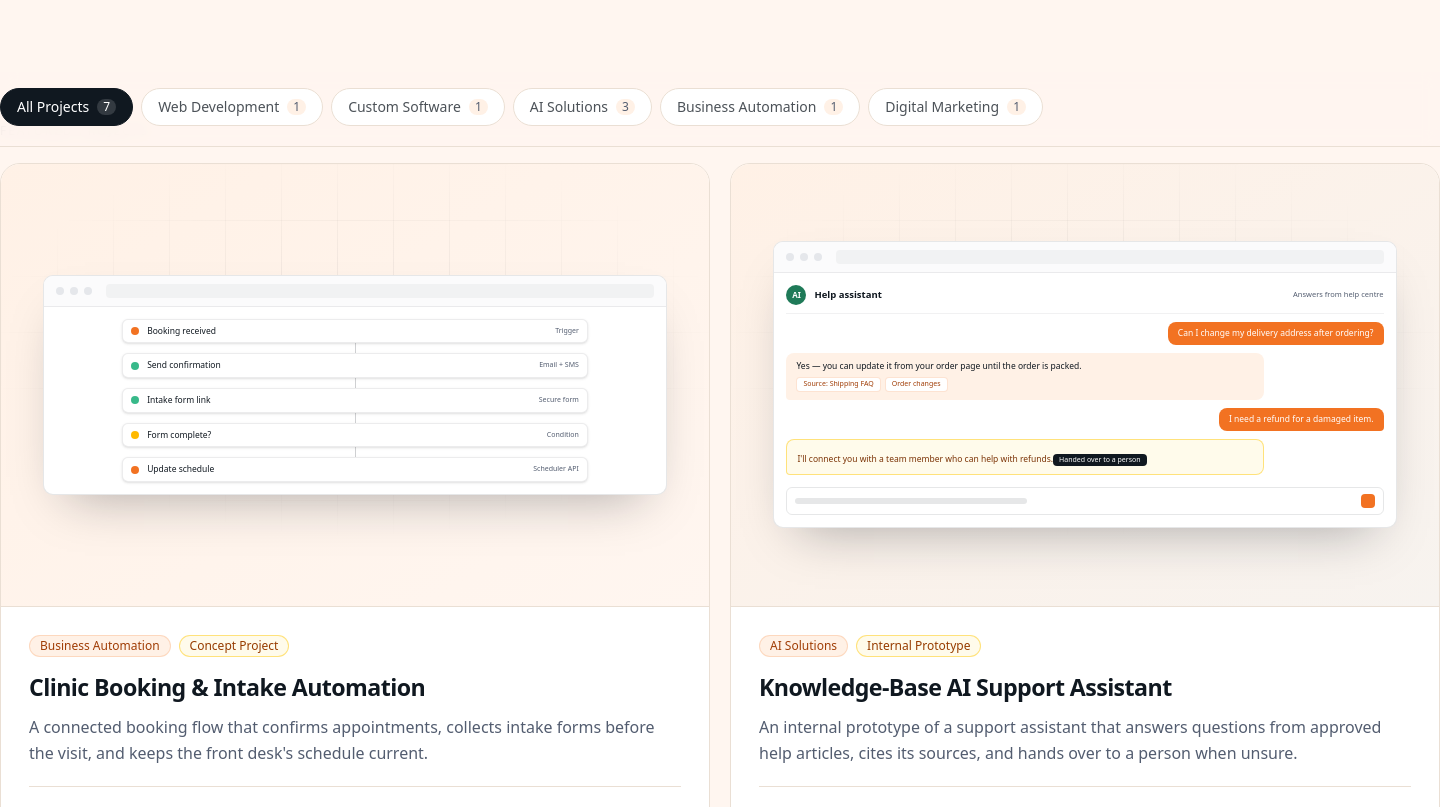
Test: ProjectFilters › filters projects by category without reload and updates the URL
Click the button "Digital Marketing 1" at (956, 107), box [868,88,1043,126]
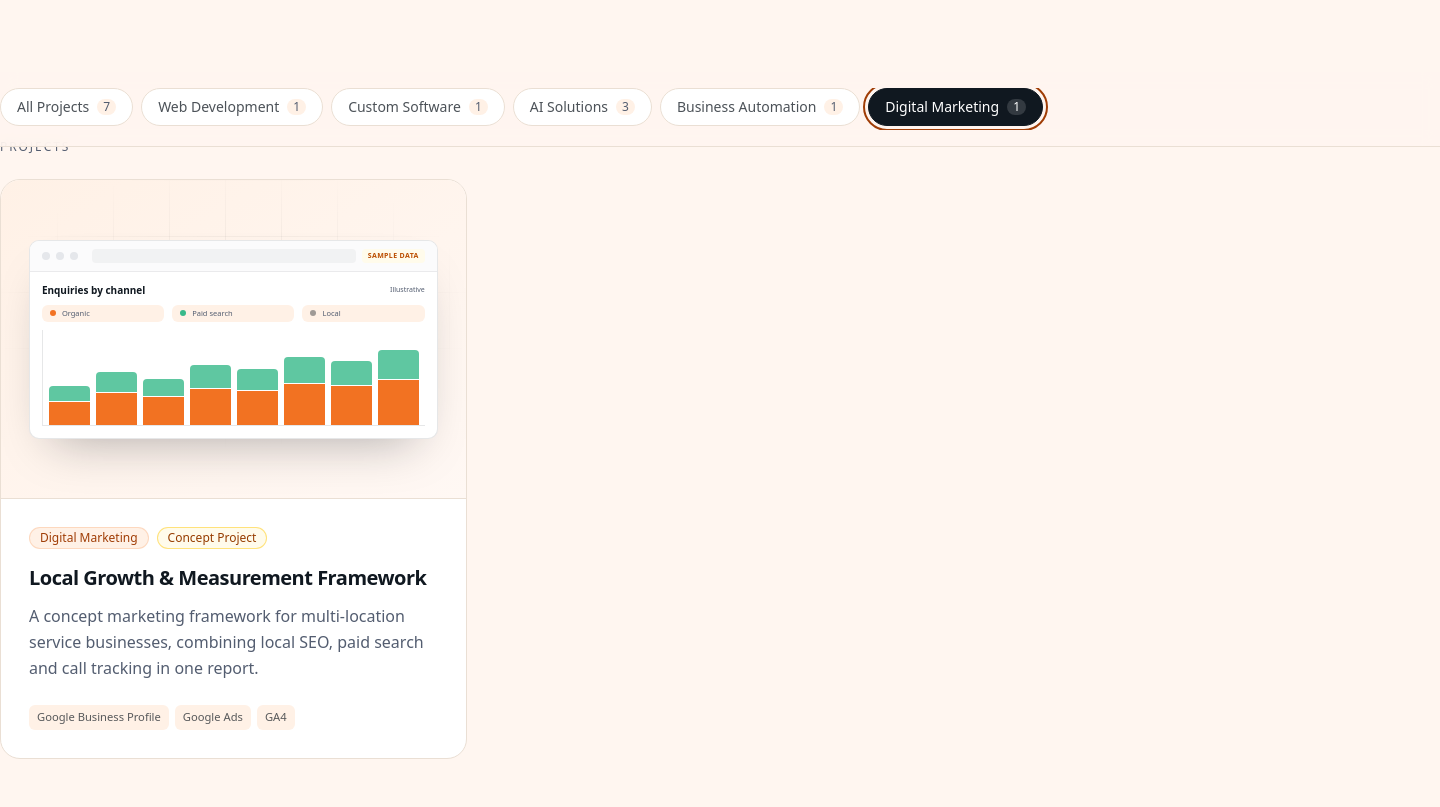
Result: the number of links is 1 at [0,179,467,759]
Click the button "All Projects 7" at (67, 107), box [0,88,133,126]
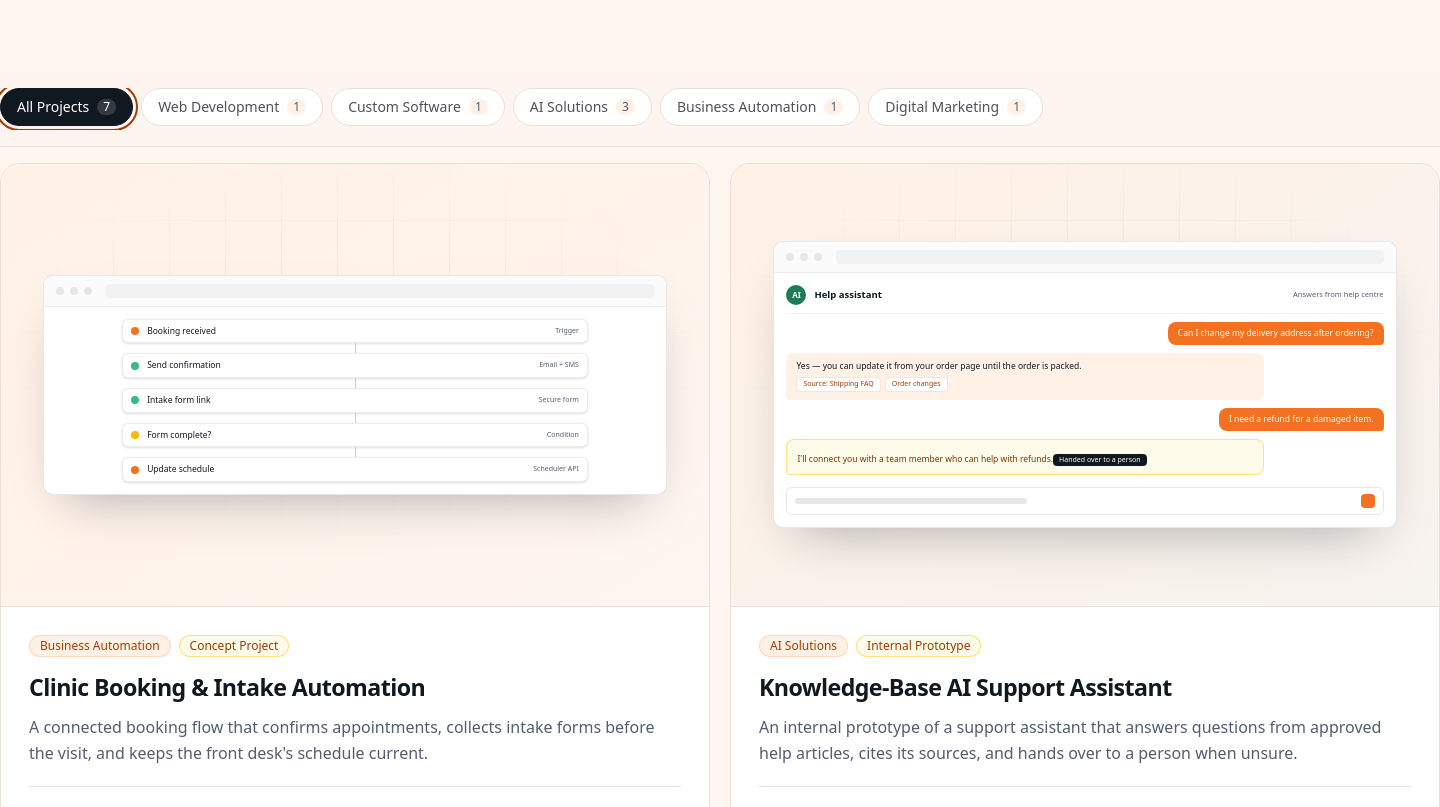
Result: the number of links is 7
